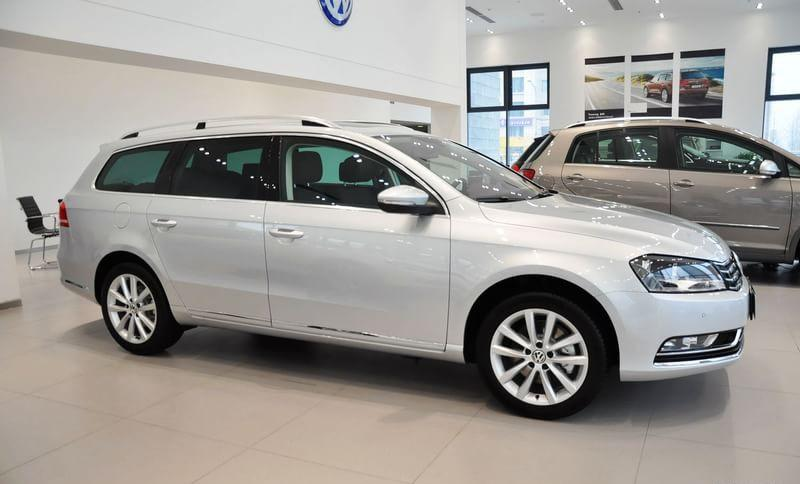Wagon: (56, 112, 757, 418)
